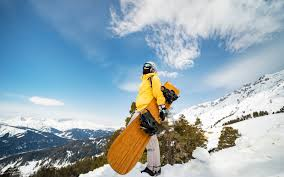snowboard: (103, 81, 181, 173)
